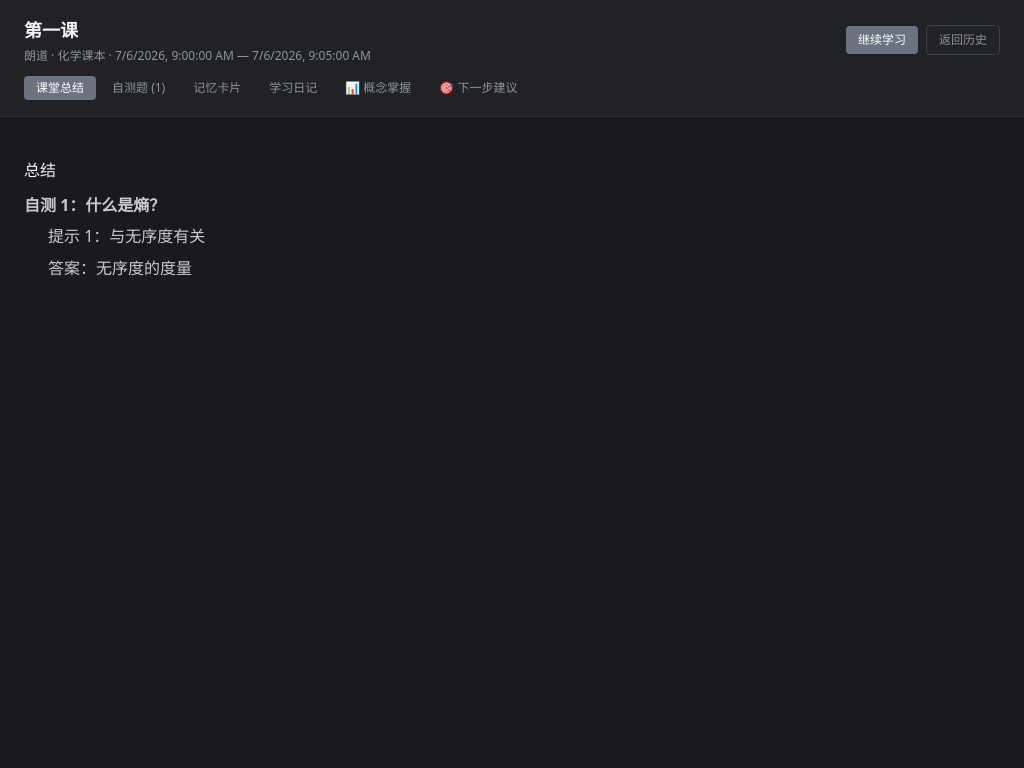
it: ReviewView › renders concept mastery with levels and misconceptions
This screenshot has width=1024, height=768.
Step 1. Click the button "📊 概念掌握" → [378, 88], box [333,76,423,100]
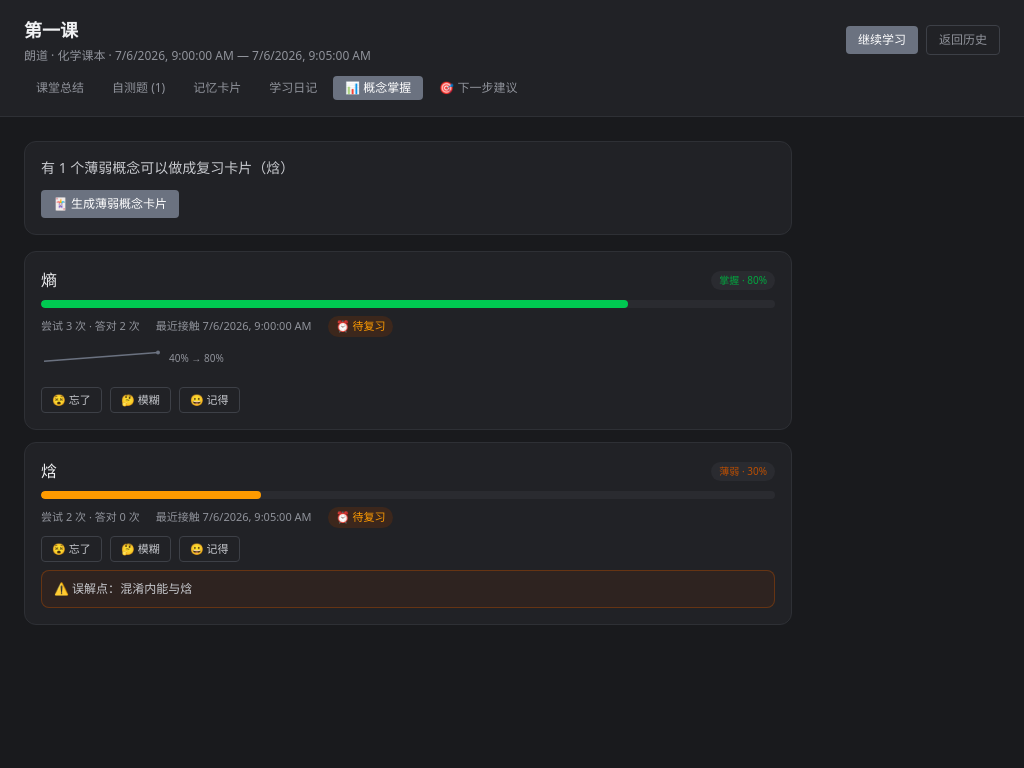
Now the text "掌握 · 80%" is shown, box [711,270,775,290]
Now the text "焓" is shown, box [41,459,57,483]
Now the text "薄弱 · 30%" is shown, box [711,462,775,480]
